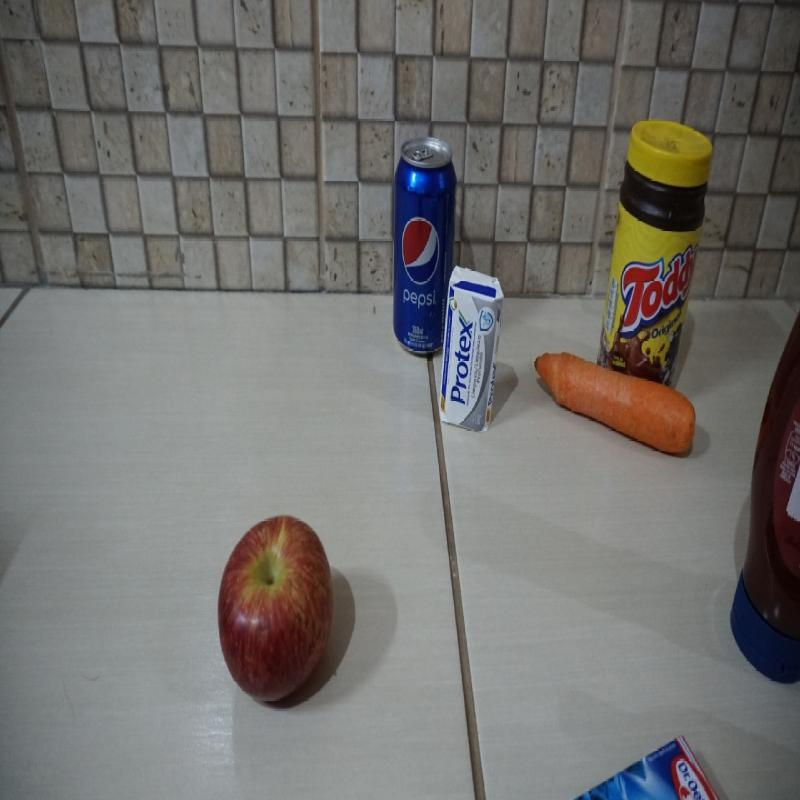Apple: (214, 512, 338, 698)
Carrot: (544, 369, 699, 466)
Chocolate Powder: (599, 113, 711, 370)
Gelatine: (568, 723, 715, 795)
Ketchup: (729, 320, 798, 682)
Soap: (441, 271, 505, 430)
Soda can: (390, 135, 442, 353)
